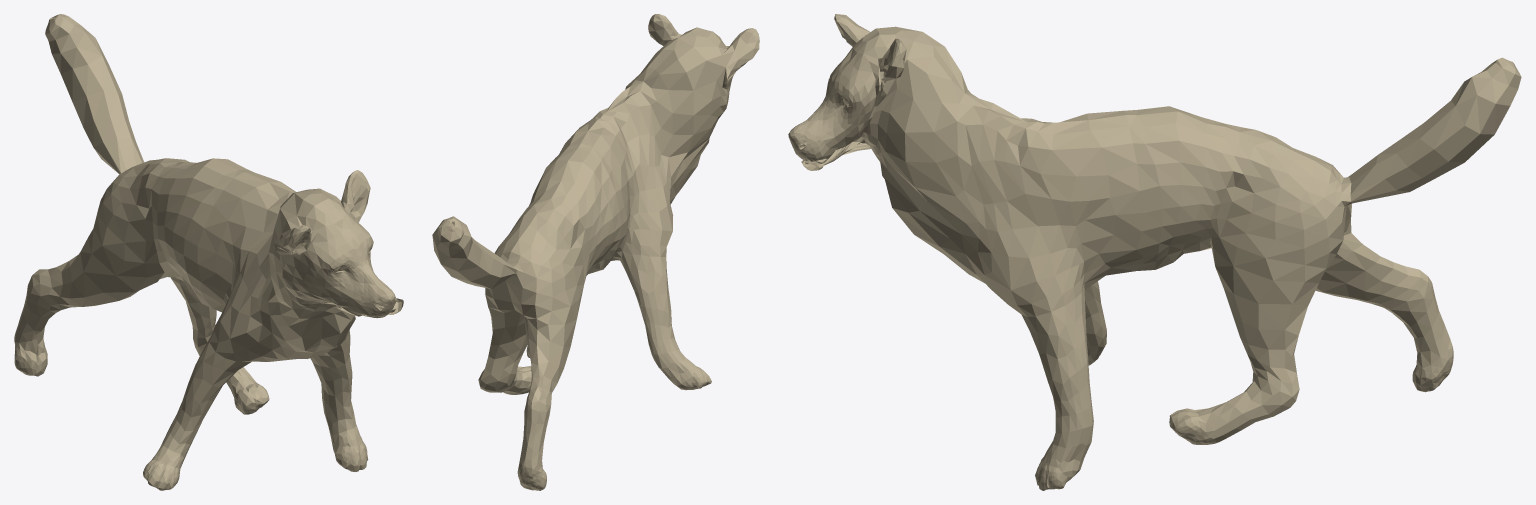
The picture shows the model from 3 angles, left to right: view 1: azimuth 30°, elevation 25°; view 2: azimuth 150°, elevation 25°; view 3: azimuth 270°, elevation 25°; orthographic projection. The views are drawn at different scales.
Visible parts, largest first — view 1: world; view 2: world; view 3: world.
Part boxes in pixels (left/top/right/bottom): world: left=14, top=14, right=403, bottom=490; world: left=432, top=14, right=759, bottom=490; world: left=788, top=14, right=1521, bottom=490.
Size of the model in its own units: 0.4966 by 0.8063 by 1.3.
